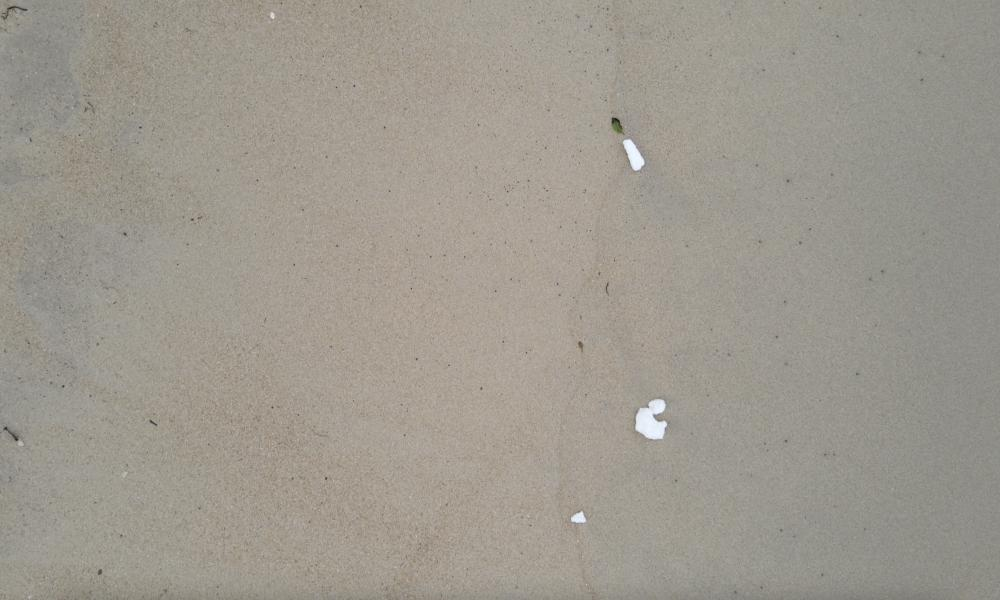styrofoam: (636, 409, 670, 440), (623, 137, 645, 172), (650, 397, 666, 415), (572, 512, 587, 523)
